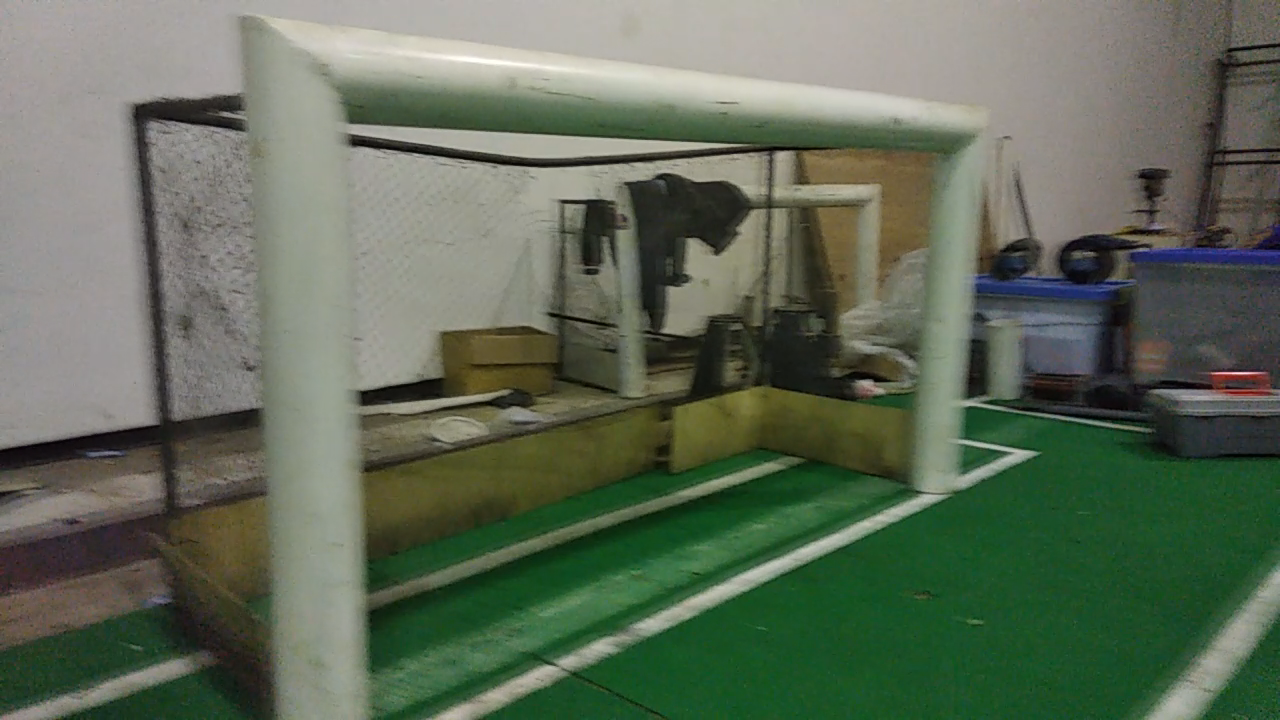gawang: (223, 3, 1020, 719)
